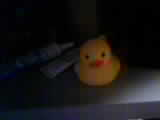duck: (66, 31, 132, 86)
